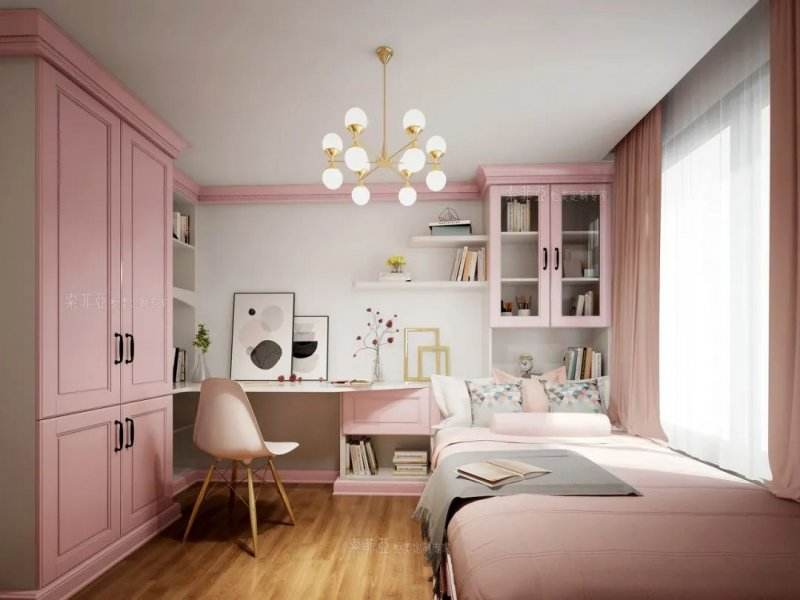床: (432, 421, 790, 599)
枕头: (451, 369, 612, 439)
灯: (309, 44, 458, 213)
